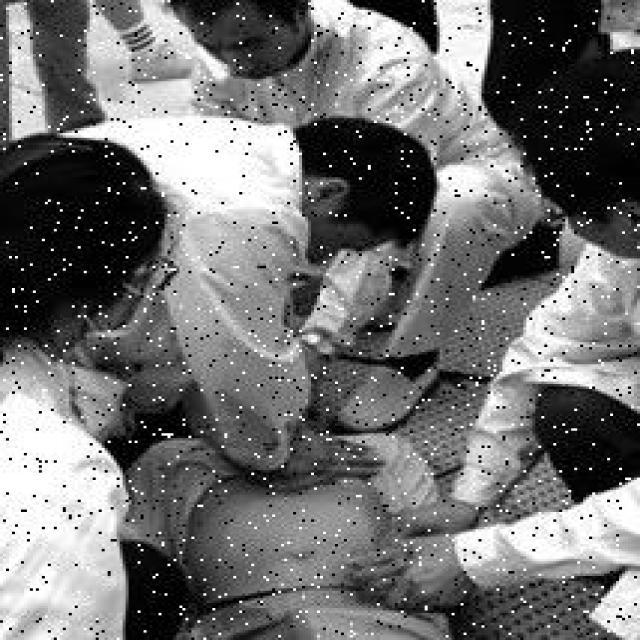fall: (128, 387, 434, 638)
